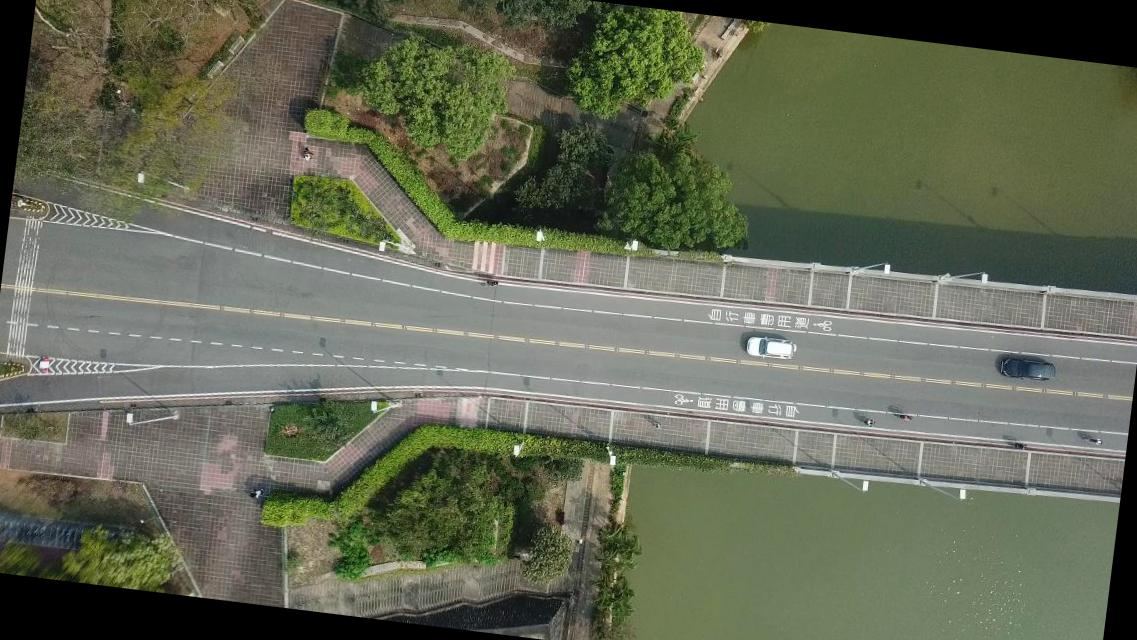vehicle: (998, 354, 1056, 382), (744, 333, 796, 362)
